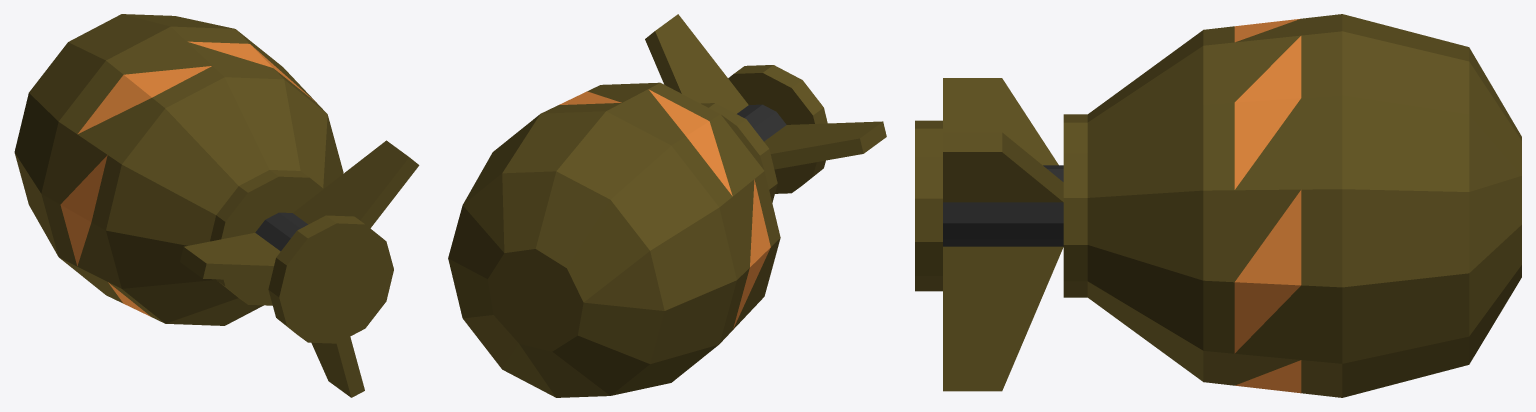
The model's file is LP_PostApoc_LargeManMissile.fbx.
The picture shows the model from 3 angles, left to right: view 1: azimuth 30°, elevation 25°; view 2: azimuth 150°, elevation 25°; view 3: azimuth 270°, elevation 25°; orthographic projection. The views are drawn at different scales.
Parts seen in each view (by area): view 1: LargeManMissile; view 2: LargeManMissile; view 3: LargeManMissile.
Boxes of the visible parts, <box> form: LargeManMissile: <box>14,14,419,397</box>; LargeManMissile: <box>448,14,886,397</box>; LargeManMissile: <box>915,14,1521,397</box>.
Size of the model in its own units: 9.59 by 9.59 by 15.1.
